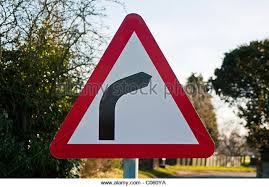Bend_to_right: (46, 11, 218, 163)
